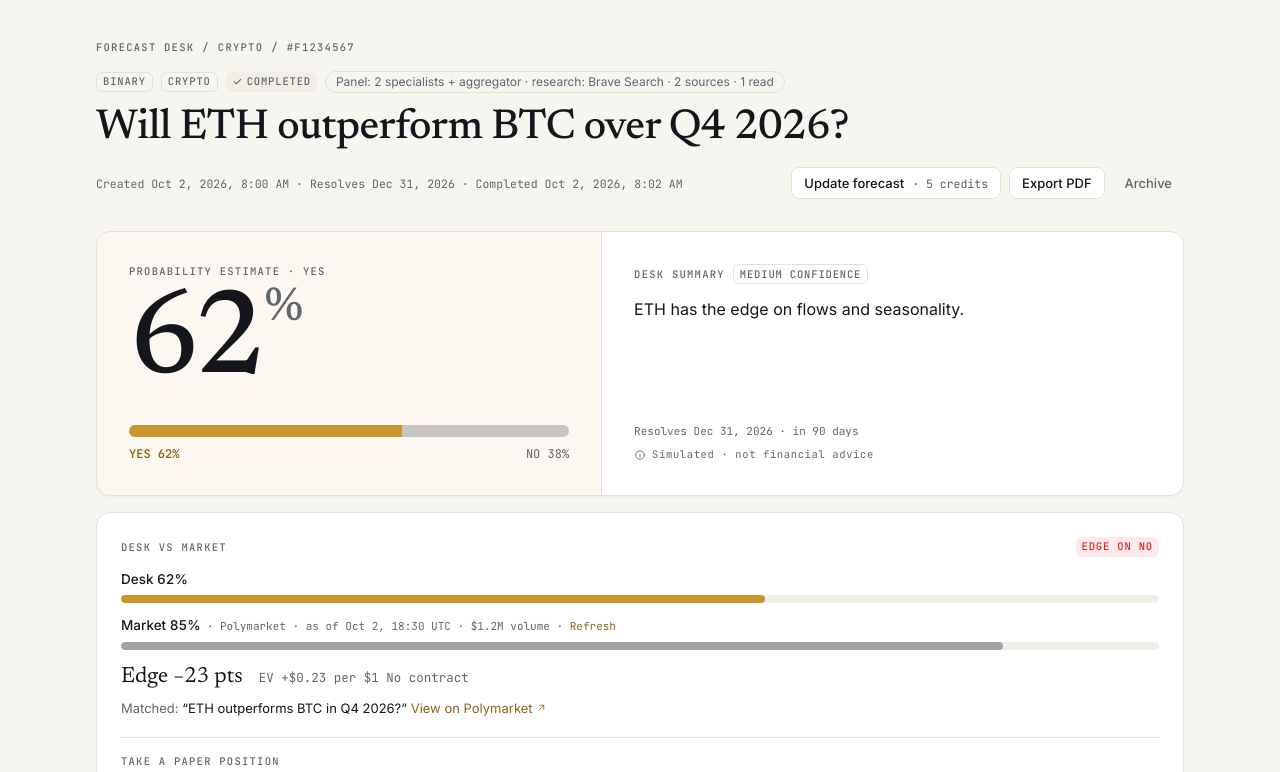
Test: DeskVsMarket · fresh odds › leaves fresh odds alone and refreshes on demand
Click the button with aria-label "Refresh market odds".
click(593, 627)  # box [570, 618, 616, 635]
(page scrolled)
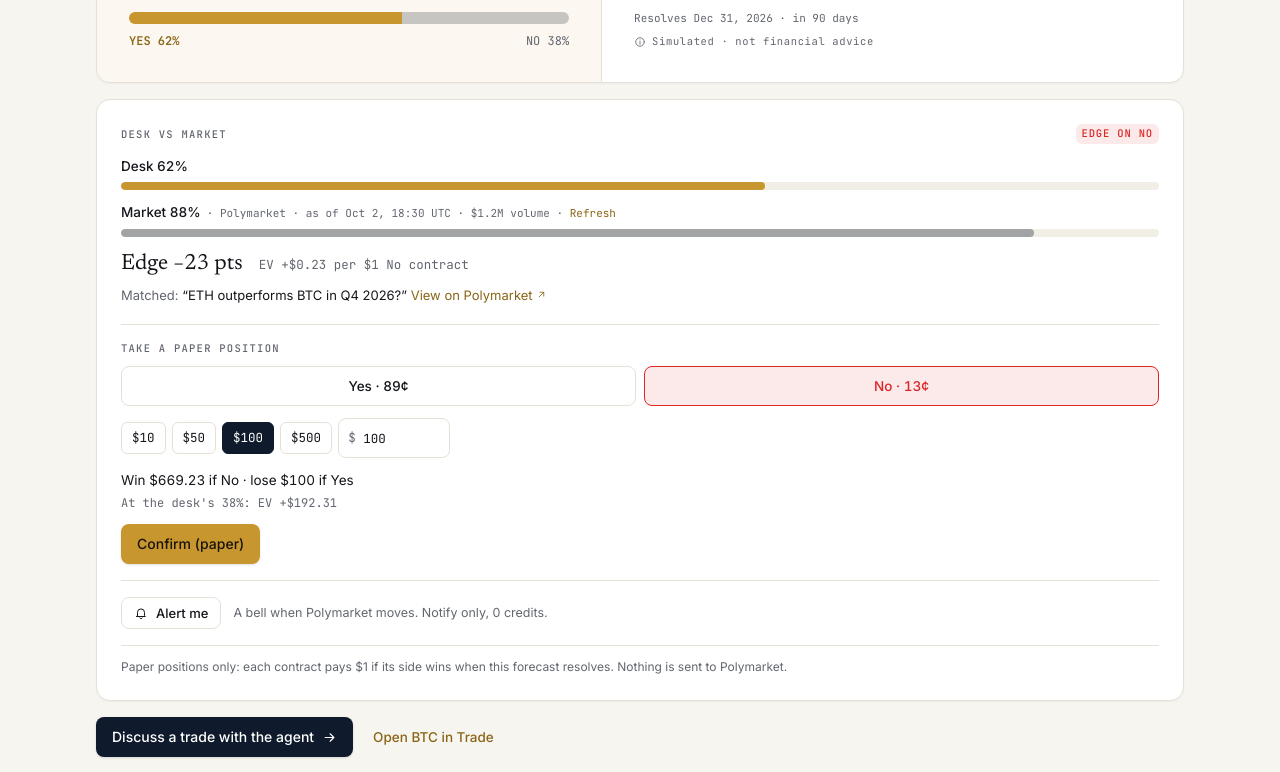
Expected: the element "Desk vs market" shows "Market 88%", [121, 204, 201, 220]
